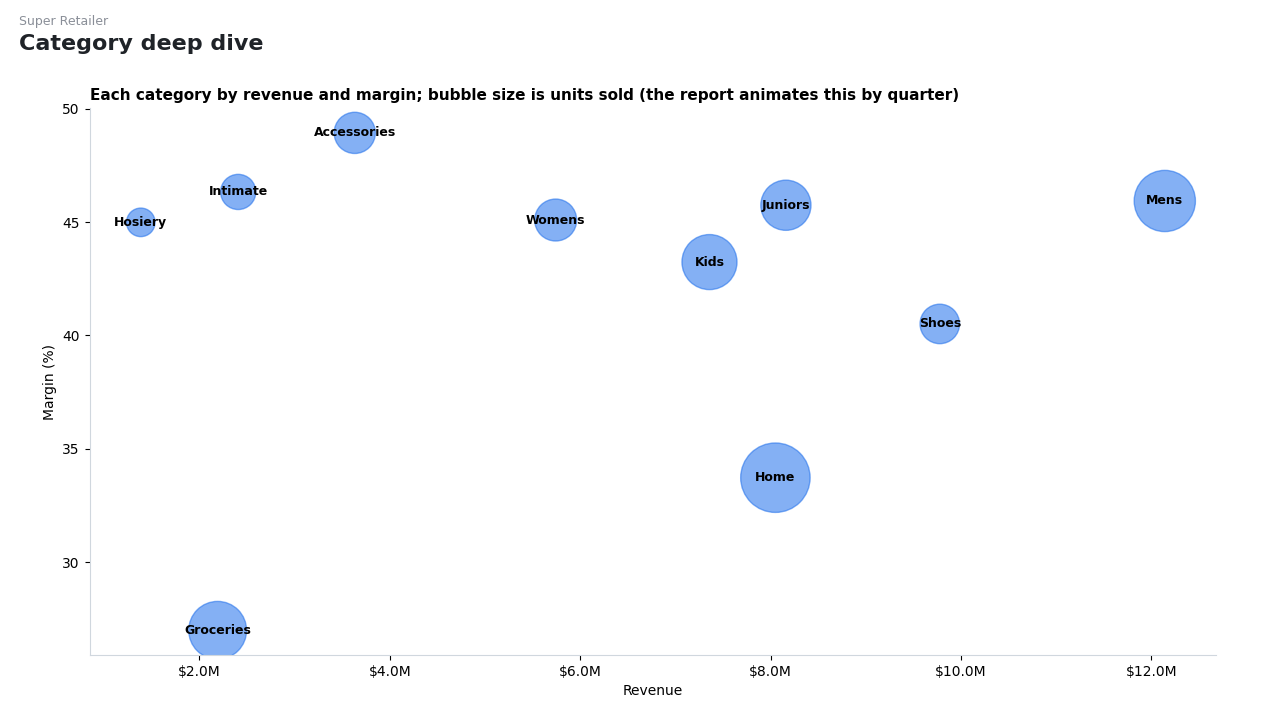

This screenshot's page, from the dashboard's own definition file:
{"tool":"powerbi","page":{"name":"Category Deep dive","canvas":[1280,720],"ordinal":2},"visuals":[{"type":"scatterChart","fields":{"X":["Sales.Revenue Measure"],"Y":["Sales.Margin %"],"Series":["Sales.Category"],"Size":["Sum(Sales.Total Units)"],"Play":["Dates.Date.Variation.Date Hierarchy.Quarter"]},"box":[0,0,1280,719.8],"z":0},{"type":"actionButton","box":[0,679.4,32.7,40.4],"z":1},{"type":"actionButton","box":[1246.9,679.3,32.8,40.7],"z":2}]}

Visuals, with their boxes in screenshot pixels (x1, y1, x2, y2), scaled from the page's 1280x720 canvas onto the 1280x720 screenshot:
scatterChart - Sales.Revenue Measure x Sales.Margin %: x1=0 y1=0 x2=1279 y2=719
actionButton: x1=0 y1=679 x2=33 y2=719
actionButton: x1=1247 y1=679 x2=1279 y2=719
